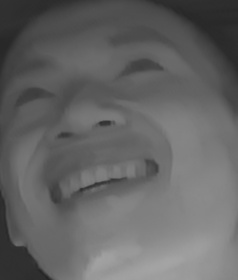eye: (110, 48, 167, 85), (11, 78, 57, 111)
mouth: (43, 151, 159, 215)
